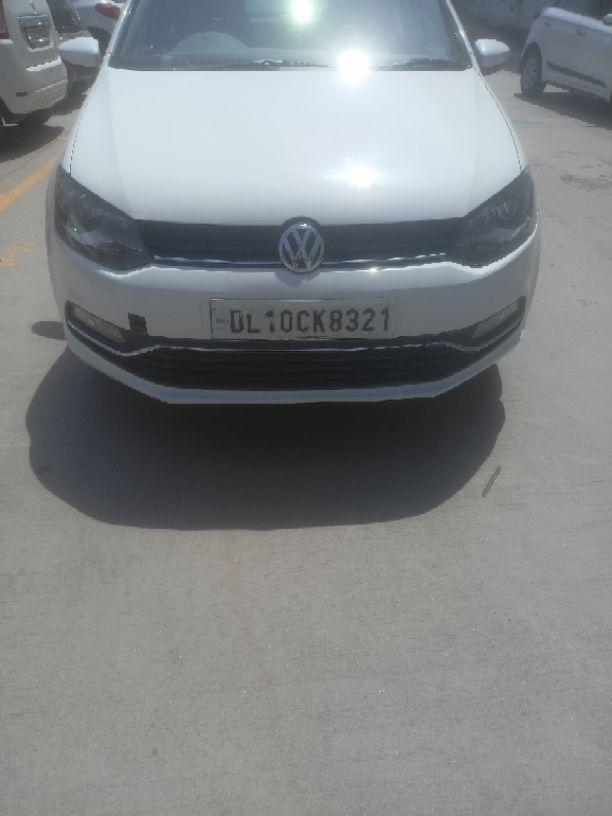license_plate: (207, 295, 399, 342)
